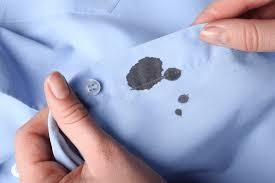oil: (121, 57, 181, 89), (169, 88, 192, 104), (170, 106, 187, 122)
